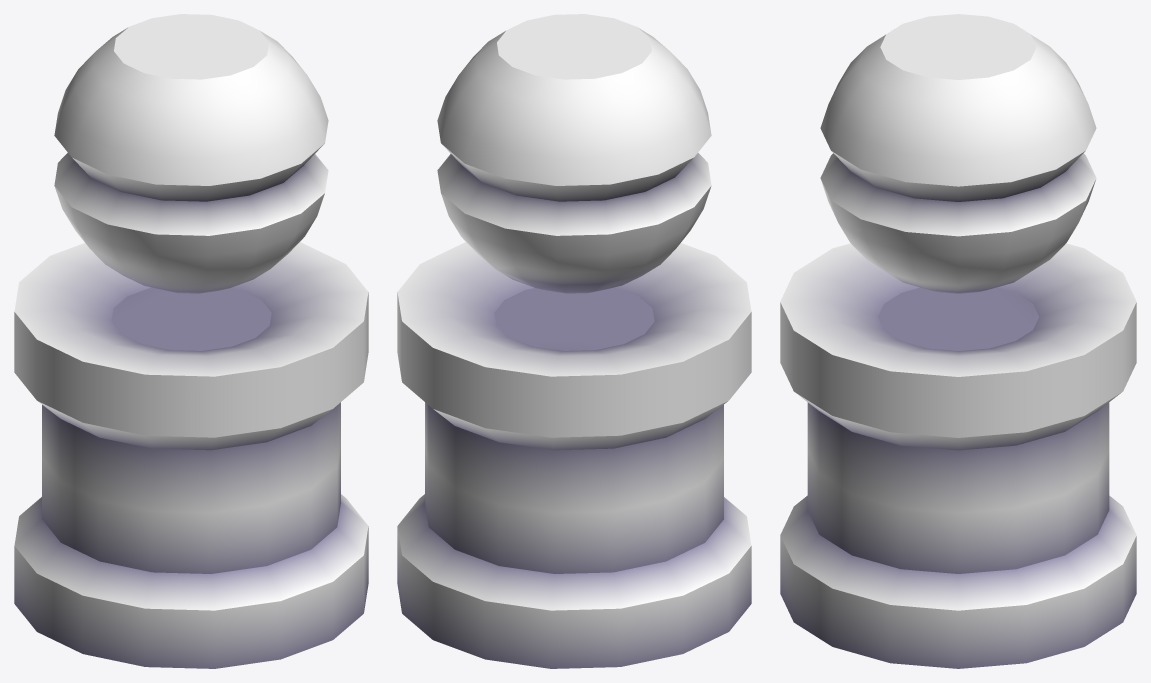
File: wall.glb
3 renders of one model, left to right at view 1: azimuth 30°, elevation 25°; view 2: azimuth 150°, elevation 25°; view 3: azimuth 270°, elevation 25°, orthographic.
Parts seen in each view (by area): view 1: Wall; view 2: Wall; view 3: Wall.
Boxes of the visible parts, bbox=[...] form: Wall: bbox=[14, 14, 368, 668]; Wall: bbox=[397, 14, 751, 668]; Wall: bbox=[780, 14, 1136, 668].
Bounding box in the file's own units: 4.18 × 7.06 × 4.18.
